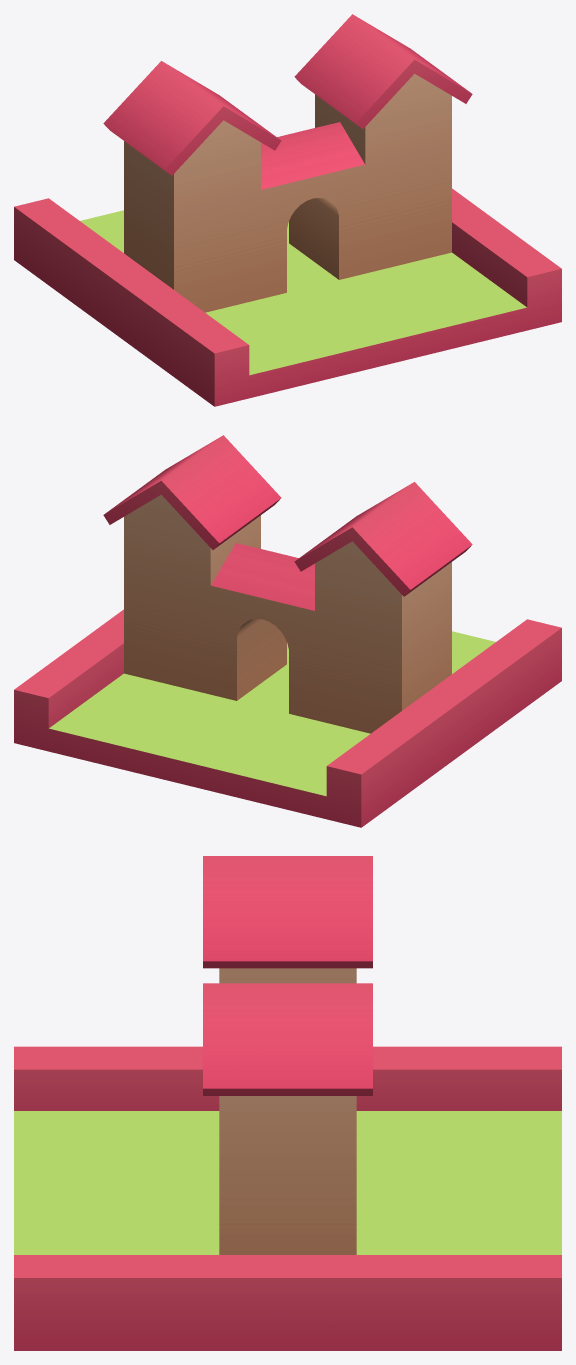
File: castle.gltf
The picture shows the model from 3 angles, top to bottom: view 1: azimuth 30°, elevation 25°; view 2: azimuth 150°, elevation 25°; view 3: azimuth 270°, elevation 25°; orthographic projection. The views are drawn at different scales.
Parts seen in each view (by area): view 1: castle; view 2: castle; view 3: castle.
Boxes of the visible parts, box(x1,y1,x2,y2) form: castle: box(14, 14, 561, 406); castle: box(14, 435, 561, 827); castle: box(14, 856, 561, 1350).
Bounding box in the file's own units: 0.9999 × 0.635 × 0.9999.
1 material, 1 textured.
